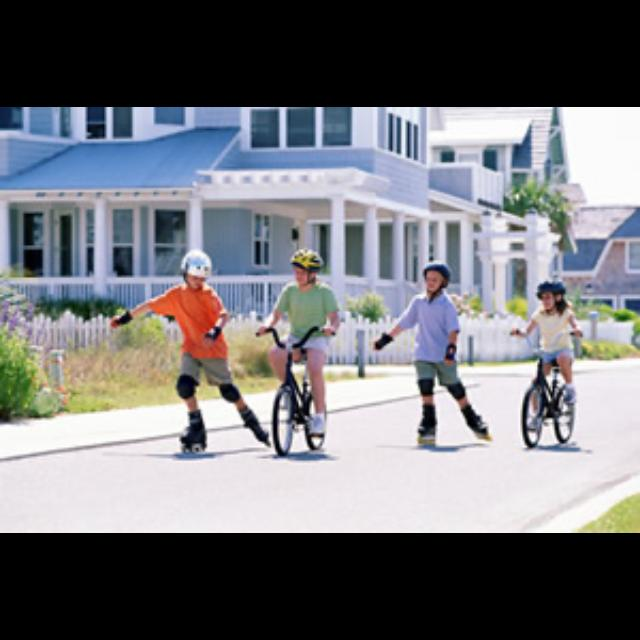With Helmet: (526, 268, 576, 318), (280, 244, 332, 292), (170, 242, 216, 290), (418, 261, 450, 297)
